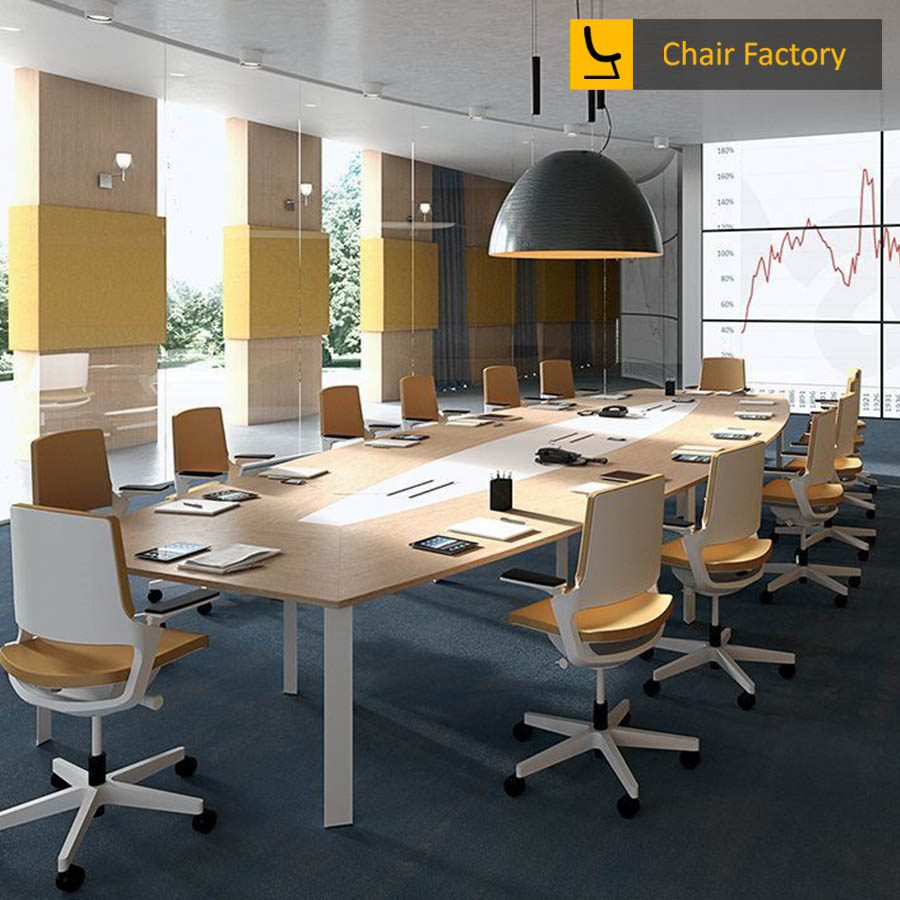conference_table: (122, 381, 789, 829)
